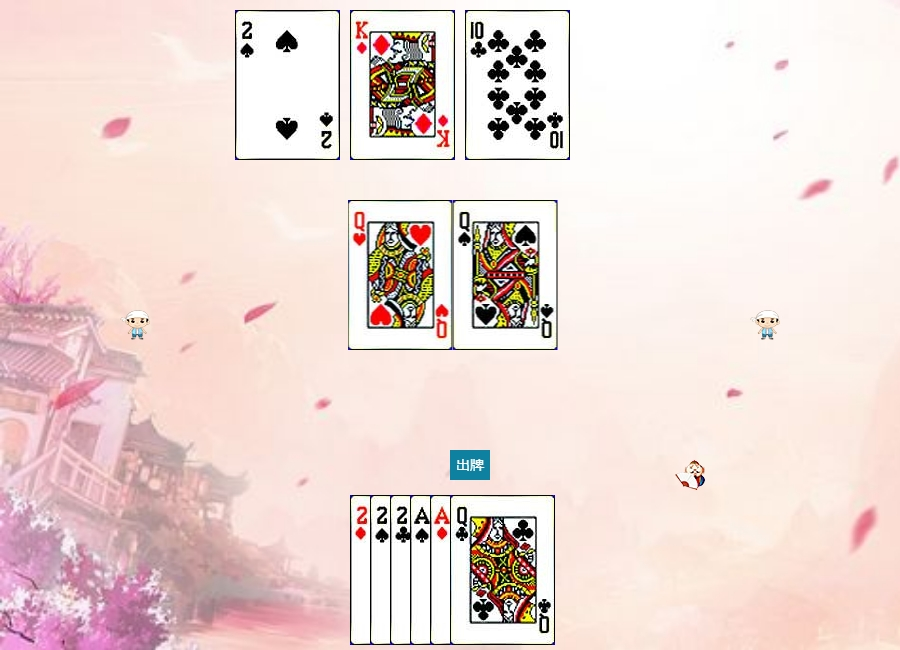10~2: (465, 10, 570, 160)
12~2: (450, 495, 555, 645)
12~3: (348, 200, 453, 350)
12~4: (453, 200, 558, 350)
13~1: (350, 10, 455, 160)
14~1: (430, 495, 535, 645)
14~4: (410, 495, 515, 645)
15~1: (350, 495, 455, 645)
15~2: (390, 495, 495, 645)
15~4: (235, 10, 340, 160), (370, 495, 475, 645)
